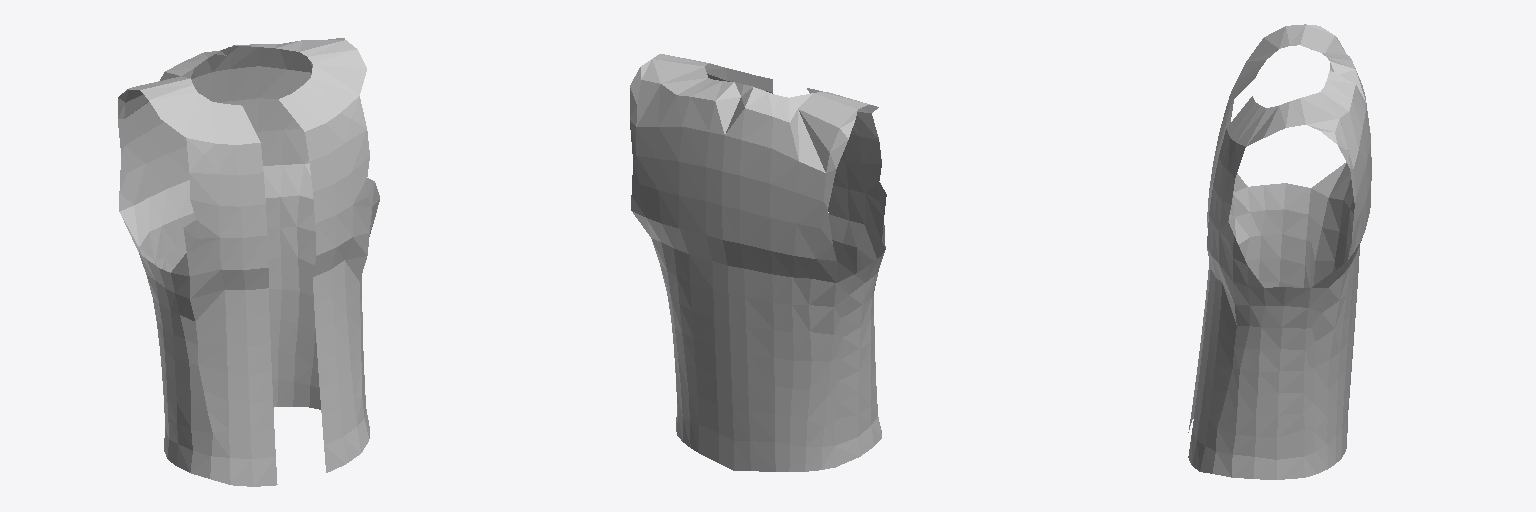
Rendered from cardigan_1.obj.
3 views of the same model, side by side, from view 1: azimuth 30°, elevation 25°; view 2: azimuth 150°, elevation 25°; view 3: azimuth 270°, elevation 25° (orthographic).
Visible parts, largest first — view 1: tshirt_1.001; view 2: tshirt_1.001; view 3: tshirt_1.001.
Boxes of the visible parts, box(x1,y1,x2,y2) form: tshirt_1.001: box(118, 38, 379, 486); tshirt_1.001: box(630, 54, 886, 471); tshirt_1.001: box(1188, 24, 1371, 479).
Size of the model in its own units: 0.6617 by 1.1 by 0.4807.